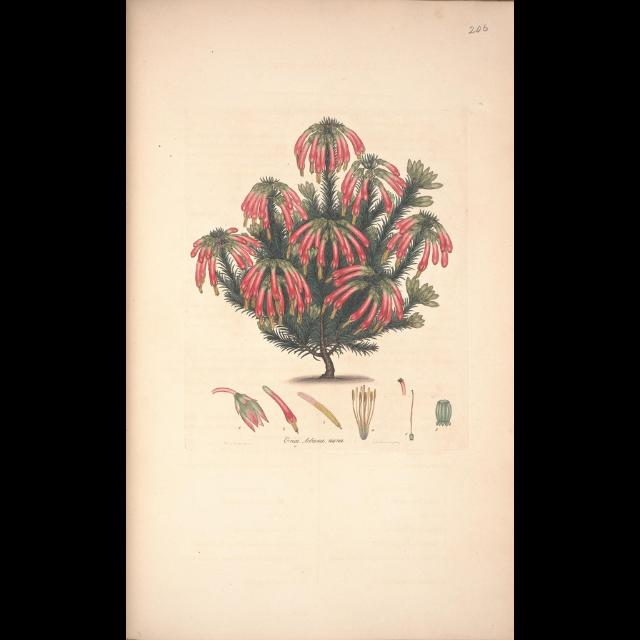Flower: (193, 121, 452, 316), (212, 384, 268, 431)
